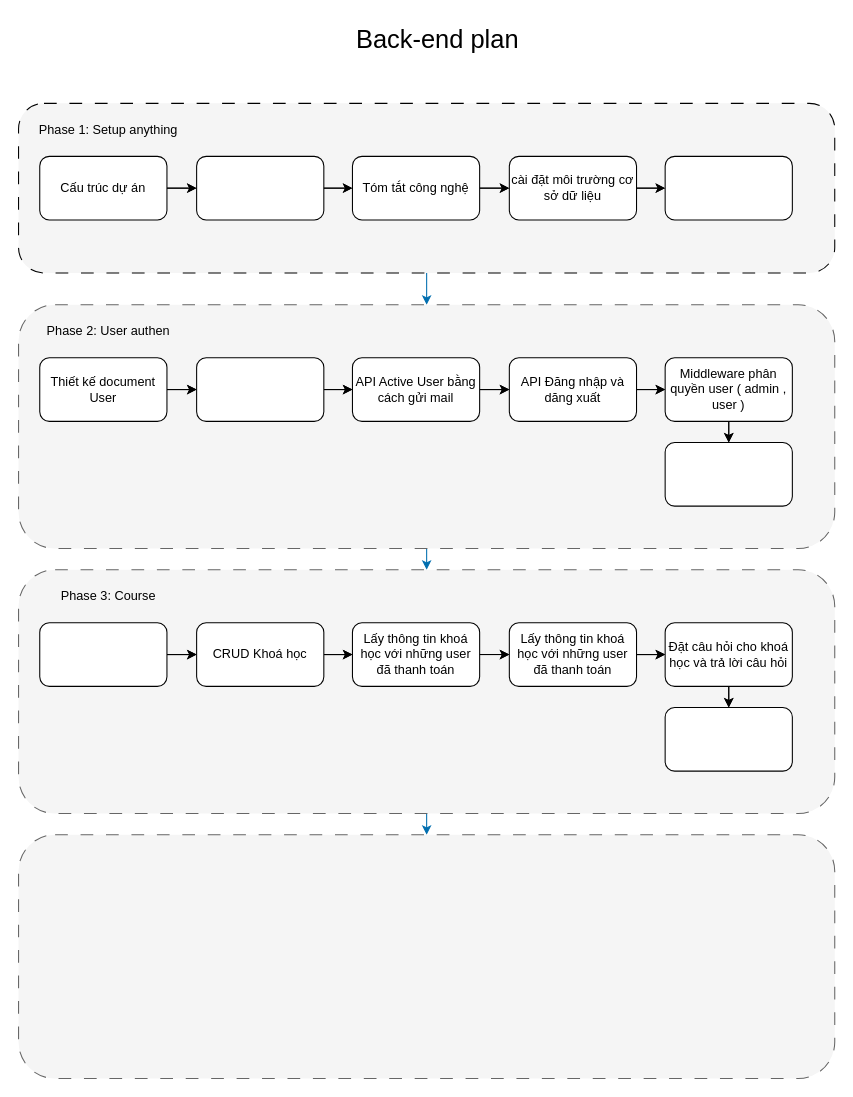
Image size: 853x1097. Some labels were removed from this diagram. Here are the shapes that lost their labels. From the top down, the box of each, then its label:
(196, 155, 324, 220): Thiết kế và lựa chọn công nghệ
(664, 155, 792, 220): Thiết lập server
(196, 357, 324, 421): API Đăng ký user
(664, 441, 792, 506): Cập nhật thông tin của user
(39, 622, 167, 686): Thiết kế document Khoá học
(664, 706, 792, 771): Đánh giá khoá học
